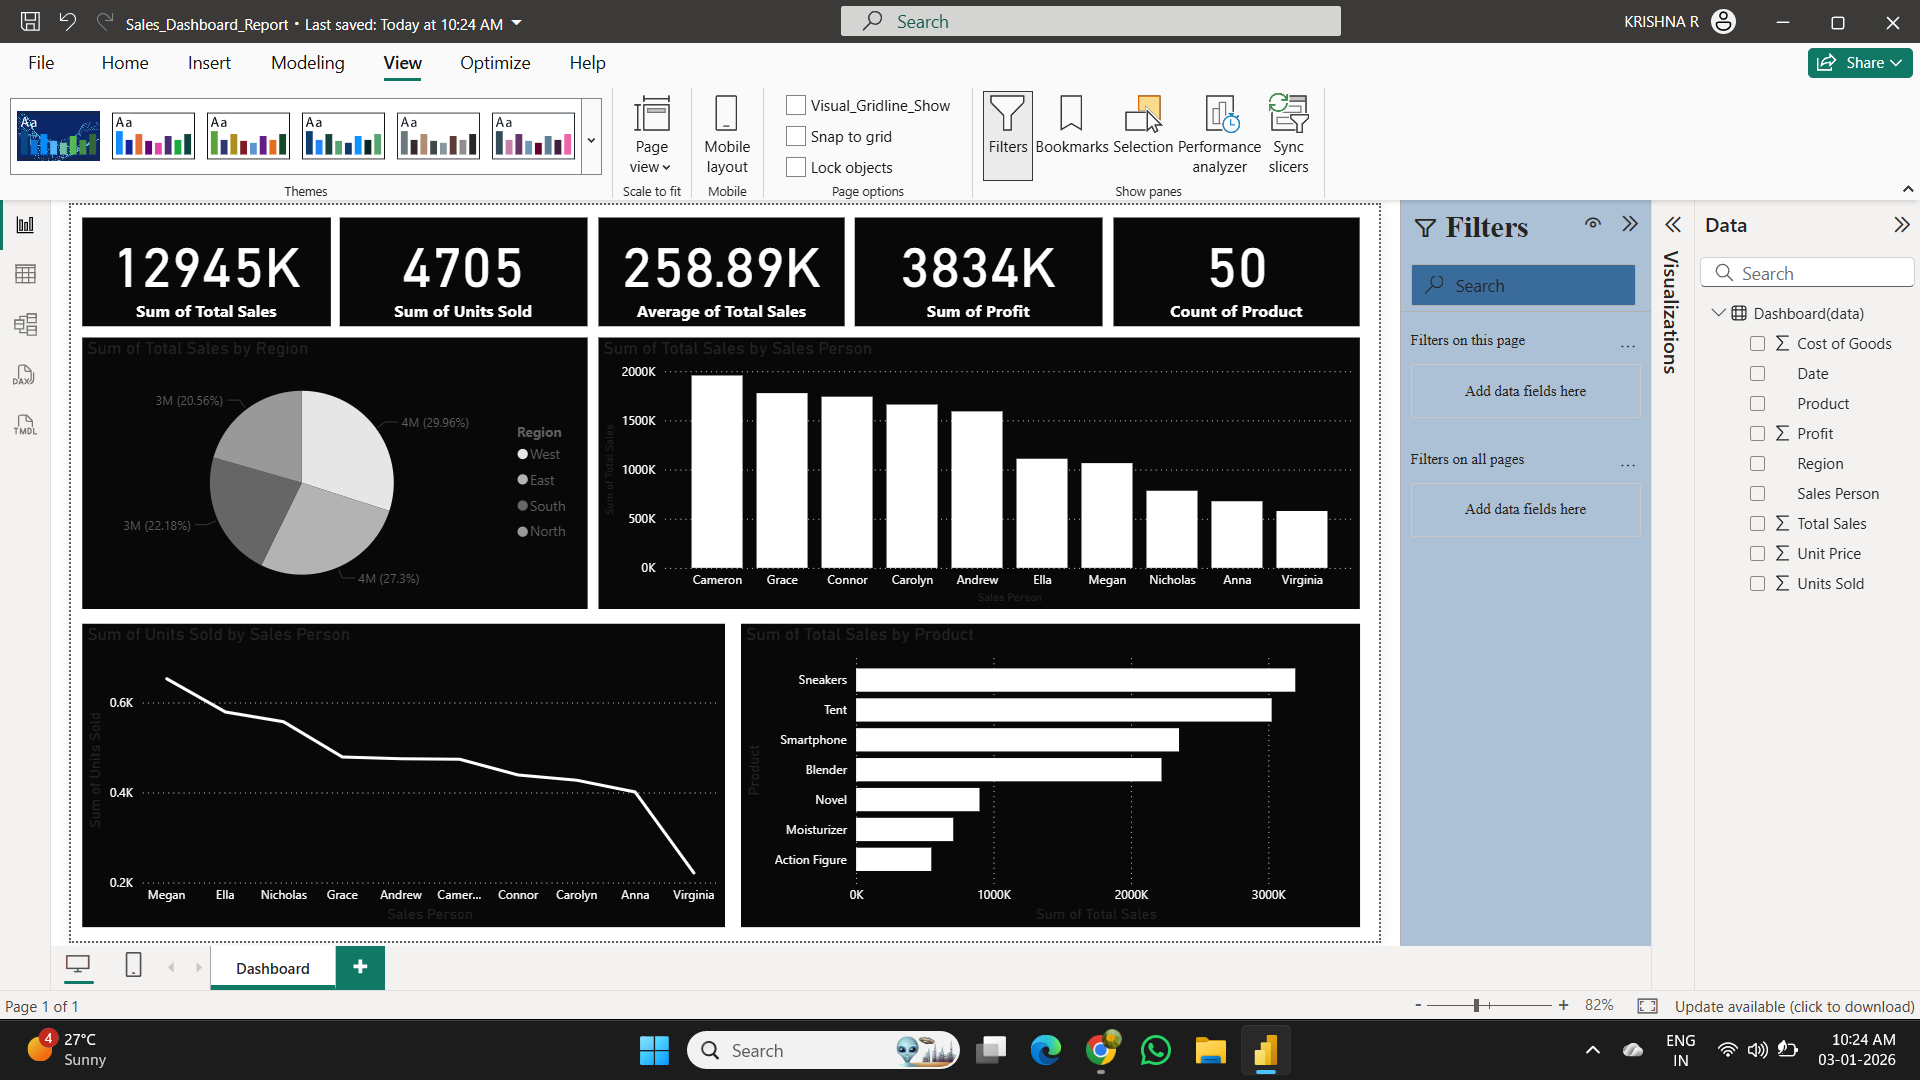

The page's visual inventory and layout, read from the dashboard file:
{"tool":"powerbi","page":{"name":"Dashboard","canvas":[1280,720],"ordinal":0},"visuals":[{"type":"card","fields":{"Values":["Sum(Dashboard(data).Total Sales)"]},"box":[11,12.2,243.3,106.4],"z":0},{"type":"card","fields":{"Values":["Sum(Dashboard(data).Units Sold)"]},"box":[262.9,12.2,242.1,106.4],"z":1000},{"type":"card","fields":{"Values":["Avg(Dashboard(data).Total Sales)"]},"box":[516,12.2,240.9,106.4],"z":2000},{"type":"card","fields":{"Values":["Sum(Dashboard(data).Profit)"]},"box":[766.7,12.2,242.1,106.4],"z":3000},{"type":"card","fields":{"Values":["CountNonNull(Dashboard(data).Product)"]},"box":[1019.8,12.2,240.9,106.4],"z":4000},{"type":"pieChart","fields":{"Category":["Dashboard(data).Region"],"Y":["Sum(Dashboard(data).Total Sales)"]},"box":[11,129.6,494,265.4],"z":5000},{"type":"lineChart","fields":{"Category":["Dashboard(data).Sales Person"],"Y":["Sum(Dashboard(data).Units Sold)"]},"box":[11,409.6,628.5,297.1],"z":6000},{"type":"barChart","fields":{"Category":["Dashboard(data).Product"],"Y":["Sum(Dashboard(data).Total Sales)"]},"box":[655.4,409.6,605.3,297.1],"z":7000},{"type":"clusteredColumnChart","fields":{"Category":["Dashboard(data).Sales Person"],"Y":["Sum(Dashboard(data).Total Sales)"]},"box":[516,129.6,744.7,265.4],"z":8000}]}

Visuals, with their boxes on the page's 1280x720 design canvas (x1, y1, x2, y2). These are canvas units, not pixel positions in the 1920x1080 screenshot, which may show the page scaled, cropped or inside an application window:
card - Sum(Dashboard(data).Total Sales): detection(11, 12, 254, 119)
card - Sum(Dashboard(data).Units Sold): detection(263, 12, 505, 119)
card - Avg(Dashboard(data).Total Sales): detection(516, 12, 757, 119)
card - Sum(Dashboard(data).Profit): detection(767, 12, 1009, 119)
card - CountNonNull(Dashboard(data).Product): detection(1020, 12, 1261, 119)
pieChart - Dashboard(data).Region x Sum(Dashboard(data).Total Sales): detection(11, 130, 505, 395)
lineChart - Dashboard(data).Sales Person x Sum(Dashboard(data).Units Sold): detection(11, 410, 640, 707)
barChart - Dashboard(data).Product x Sum(Dashboard(data).Total Sales): detection(655, 410, 1261, 707)
clusteredColumnChart - Dashboard(data).Sales Person x Sum(Dashboard(data).Total Sales): detection(516, 130, 1261, 395)
